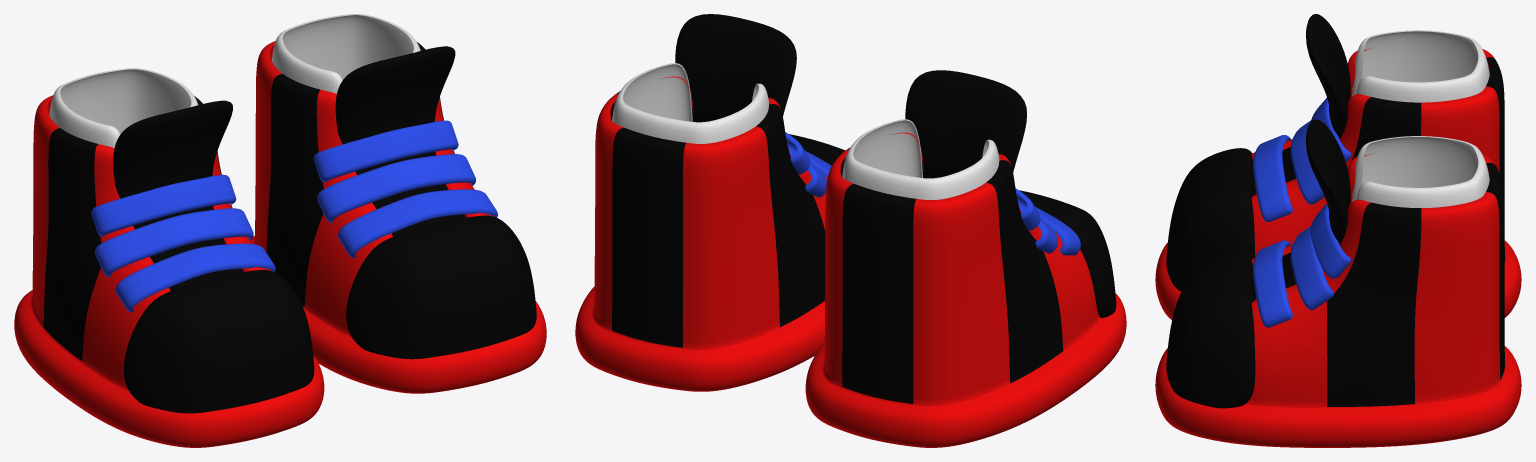
File: Boots.fbx
3 views of the same model, side by side, from view 1: azimuth 30°, elevation 25°; view 2: azimuth 150°, elevation 25°; view 3: azimuth 270°, elevation 25° (orthographic). The views are drawn at different scales.
Parts seen in each view (by area): view 1: botin, botin.001, suela delante.001, suela delante, lengueta, lengueta.001, calcetines, calcetines.001, cordon1, cordon1.001, cordon2, cordon2.001 (+2 smaller); view 2: botin, botin.001, lengueta, lengueta.001, calcetines, calcetines.001, suela delante, cordon2, suela delante.001, cordon3, cordon3.001; view 3: botin.001, botin, suela delante.001, suela delante, calcetines, calcetines.001, lengueta.001, lengueta, cordon2.001, cordon2, cordon1.001, cordon3.001 (+2 smaller).
Boxes of the visible parts, x1,y1,x2,y2 form: botin: [14, 95, 324, 447]; botin.001: [250, 41, 546, 393]; suela delante.001: [346, 215, 536, 359]; suela delante: [123, 270, 314, 413]; lengueta: [113, 100, 243, 290]; lengueta.001: [335, 46, 466, 236]; calcetines: [49, 68, 198, 147]; calcetines.001: [272, 14, 420, 93]; cordon1: [94, 208, 253, 276]; cordon1.001: [317, 154, 475, 222]; cordon2: [115, 243, 275, 312]; cordon2.001: [338, 189, 497, 257]; botin: [805, 132, 1126, 447]; botin.001: [575, 76, 827, 391]; lengueta: [905, 70, 1026, 178]; lengueta.001: [675, 14, 796, 122]; calcetines: [842, 119, 999, 199]; calcetines.001: [612, 63, 768, 143]; suela delante: [1019, 190, 1116, 317]; cordon2: [1018, 203, 1080, 255]; suela delante.001: [789, 134, 845, 165]; cordon3: [1015, 188, 1040, 230]; cordon3.001: [785, 132, 810, 174]; botin.001: [1155, 153, 1521, 447]; botin: [1155, 48, 1521, 319]; suela delante.001: [1166, 253, 1255, 408]; suela delante: [1166, 148, 1255, 291]; calcetines: [1352, 30, 1489, 102]; calcetines.001: [1352, 136, 1489, 207]; lengueta.001: [1251, 119, 1350, 301]; lengueta: [1251, 14, 1350, 195]; cordon2.001: [1253, 240, 1292, 327]; cordon2: [1253, 135, 1292, 221]; cordon1.001: [1290, 226, 1333, 310]; cordon3.001: [1310, 203, 1350, 278].
Size of the model in its own units: 482 by 289 by 357.
